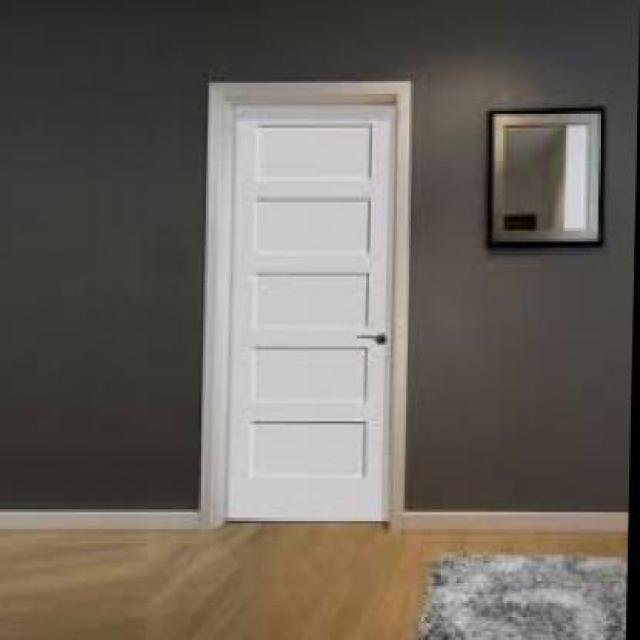door: (219, 82, 408, 518)
